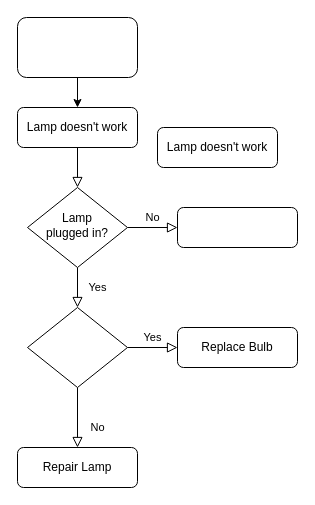
Some shapes in this 315 by 505 pixel diagram are drawn without their labels. Here are the shapes that lost their labels. From the top down, the box of each, then its label:
(16, 16, 138, 78): Start
(176, 206, 298, 248): Plug in lamp
(26, 306, 128, 388): Bulb burned out?
